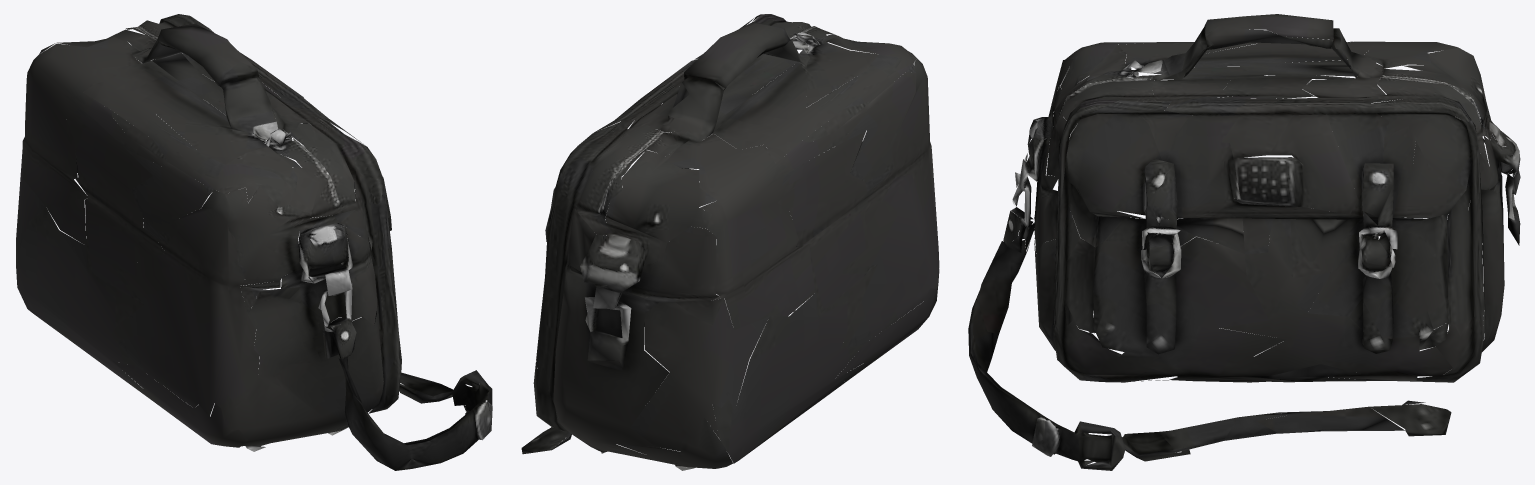
The model's file is school_bag.glb.
3 views of the same model, side by side, from view 1: azimuth 30°, elevation 25°; view 2: azimuth 150°, elevation 25°; view 3: azimuth 270°, elevation 25° (orthographic). The views are drawn at different scales.
Parts seen in each view (by area): view 1: tripo_node_6cc3f7a4-ee61-4ca9-a056-917502dc05f2; view 2: tripo_node_6cc3f7a4-ee61-4ca9-a056-917502dc05f2; view 3: tripo_node_6cc3f7a4-ee61-4ca9-a056-917502dc05f2.
Part boxes in pixels (x1=…): tripo_node_6cc3f7a4-ee61-4ca9-a056-917502dc05f2: x1=16, y1=14, x2=492, y2=470; tripo_node_6cc3f7a4-ee61-4ca9-a056-917502dc05f2: x1=521, y1=14, x2=939, y2=470; tripo_node_6cc3f7a4-ee61-4ca9-a056-917502dc05f2: x1=968, y1=14, x2=1520, y2=470.
Size of the model in its own units: 0.2561 by 0.2999 by 0.4179.
1 material, 1 textured.
